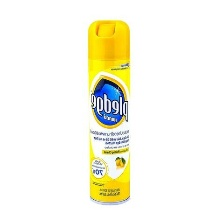aerosol_cans: (84, 16, 135, 208)
